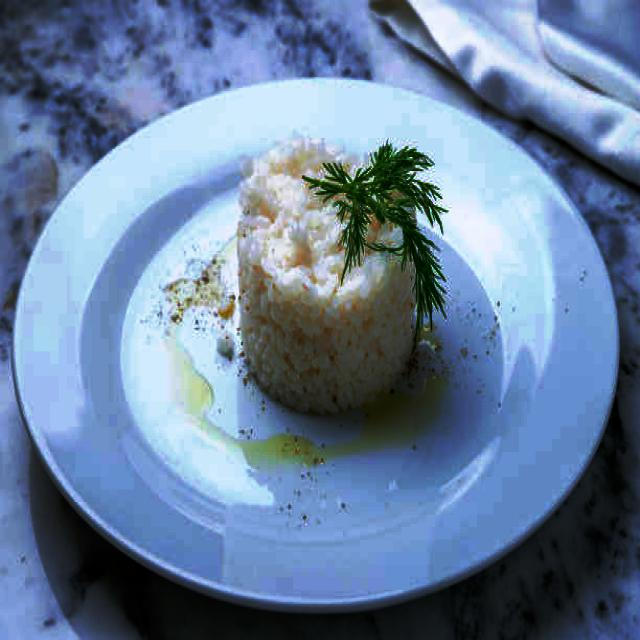rice: (235, 149, 420, 416)
